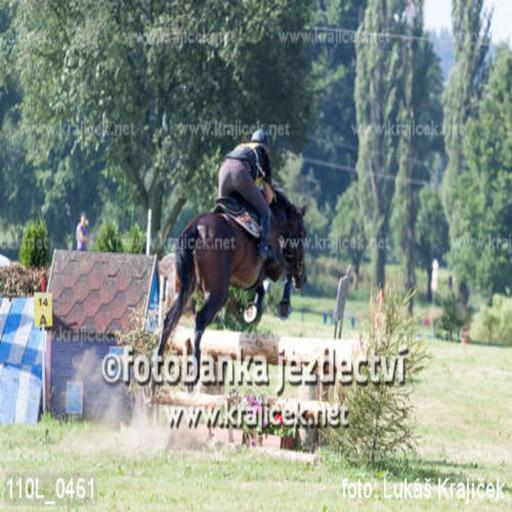horse: (152, 180, 308, 394)
